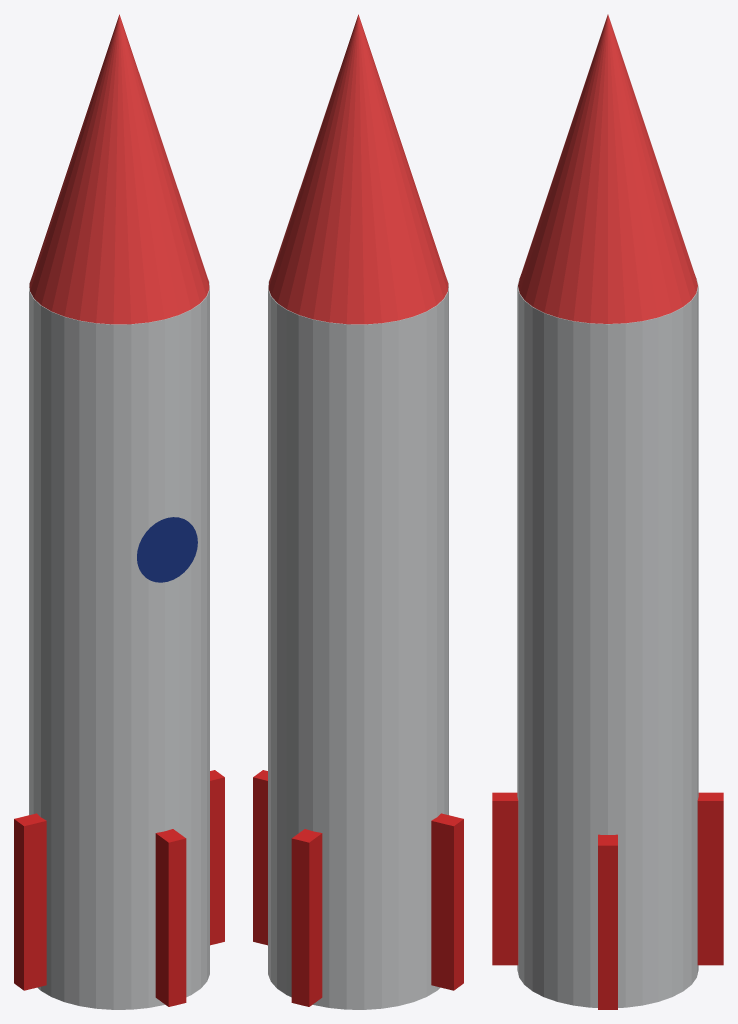
File: rocket.glb
The picture shows the model from 3 angles, left to right: view 1: azimuth 30°, elevation 25°; view 2: azimuth 150°, elevation 25°; view 3: azimuth 270°, elevation 25°; orthographic projection.
Visible parts, largest first — view 1: 柱体, 锥体, 立方体.001, 立方体.003, 圆环, 立方体; view 2: 柱体, 锥体, 立方体.001, 立方体.002, 立方体; view 3: 柱体, 锥体, 立方体.002, 立方体.003, 立方体.
Boxes of the visible parts, <box> form: 柱体: <box>29,277,209,1009</box>; 锥体: <box>29,14,209,324</box>; 立方体.001: <box>14,813,46,990</box>; 立方体.003: <box>155,829,186,1006</box>; 圆环: <box>137,517,197,582</box>; 立方体: <box>210,770,224,945</box>; 柱体: <box>268,277,448,1009</box>; 锥体: <box>268,14,448,324</box>; 立方体.001: <box>431,813,463,990</box>; 立方体.002: <box>291,829,322,1006</box>; 立方体: <box>253,770,267,945</box>; 柱体: <box>517,278,698,1007</box>; 锥体: <box>518,14,697,323</box>; 立方体.002: <box>697,792,723,965</box>; 立方体.003: <box>492,792,518,965</box>; 立方体: <box>598,834,617,1009</box>.
Bounding box in the file's own units: 0.46 × 2.1 × 0.46.
